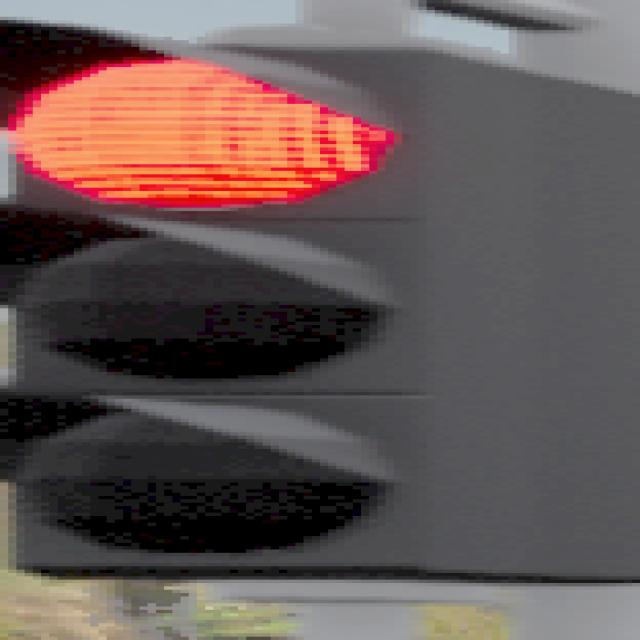red_light: (0, 27, 640, 586)
